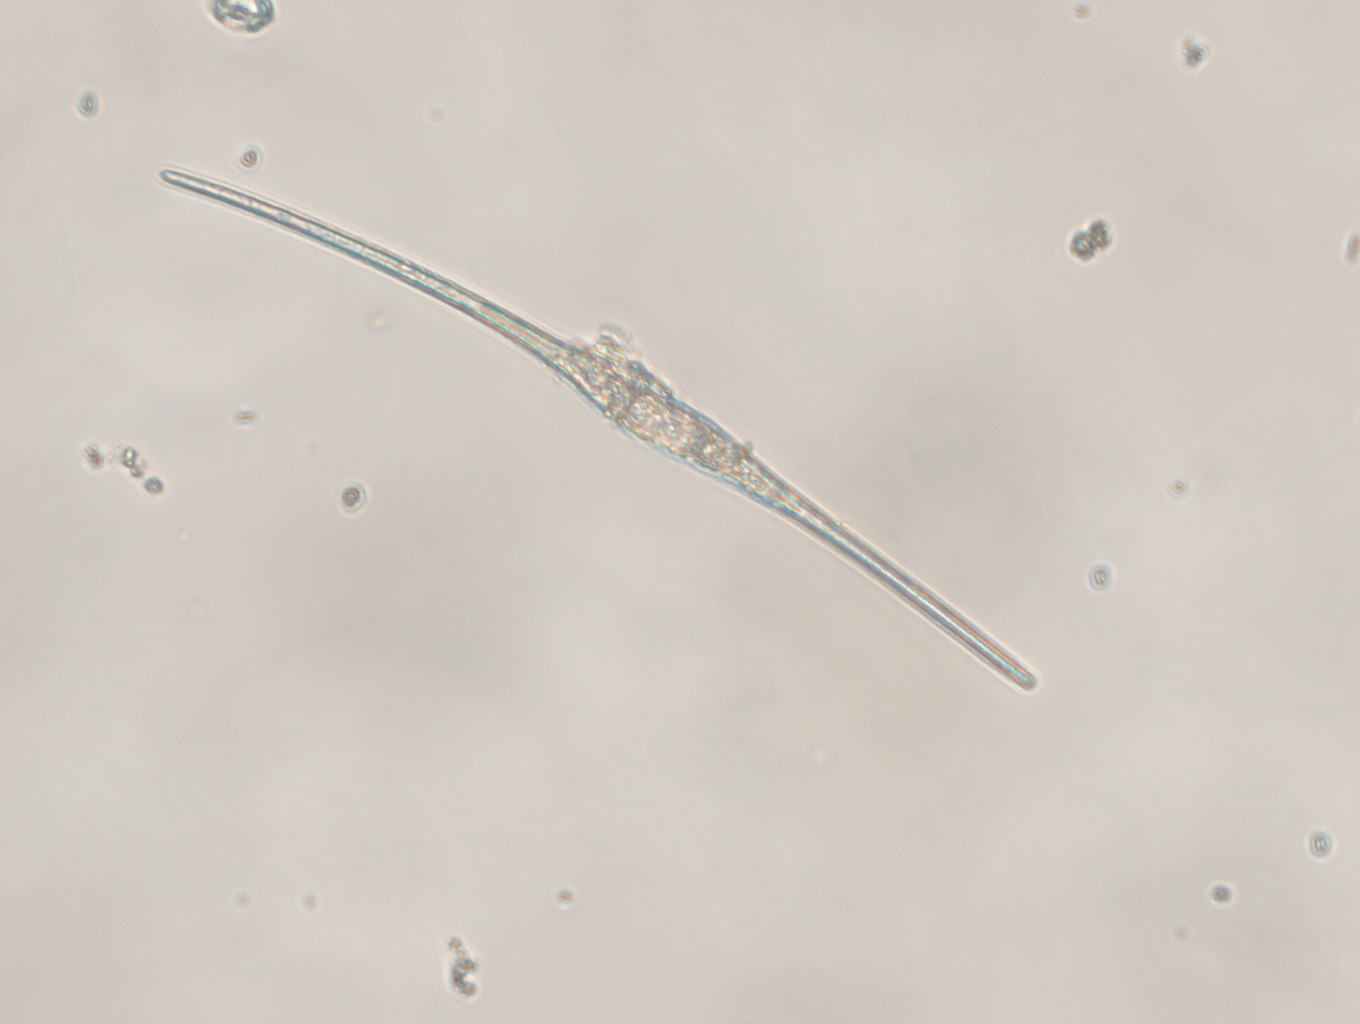ceratium fusus: (156, 162, 1046, 700)
